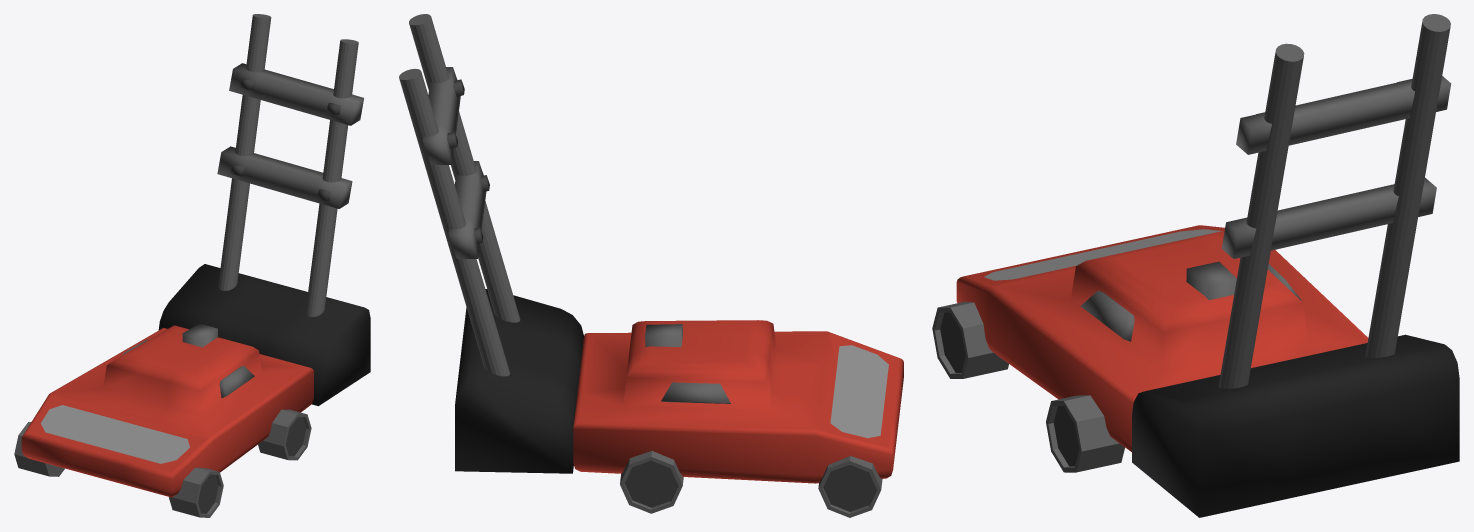
File: Lawn-Mower.fbx
The picture shows the model from 3 angles, left to right: view 1: azimuth 30°, elevation 25°; view 2: azimuth 150°, elevation 25°; view 3: azimuth 270°, elevation 25°; orthographic projection. The views are drawn at different scales.
Parts seen in each view (by area): view 1: Lawn-Mower; view 2: Lawn-Mower; view 3: Lawn-Mower.
Part boxes in pixels (box(x1,y1,x2,y2)): Lawn-Mower: box(14, 14, 370, 517); Lawn-Mower: box(399, 14, 903, 517); Lawn-Mower: box(932, 14, 1459, 517).
Size of the model in its own units: 2.15 by 1.89 by 1.75.
